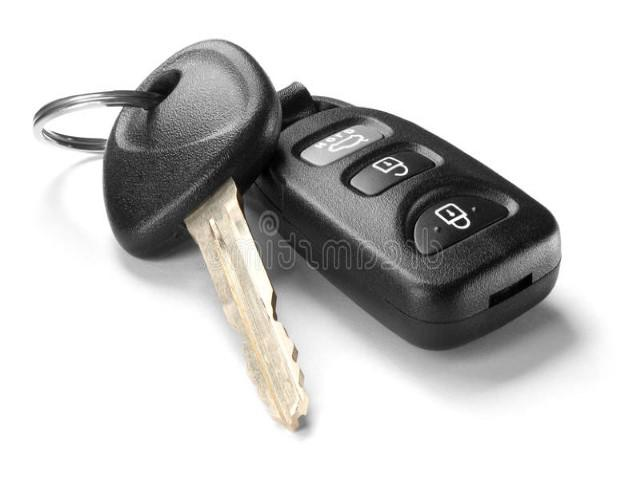key: (104, 37, 312, 312)
